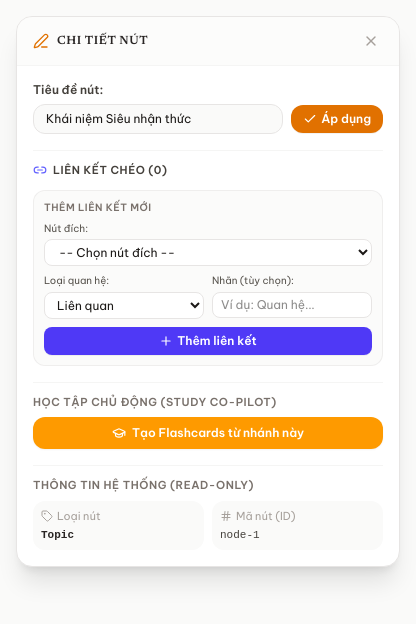
it: Commit 5: Prevent Duplicate Flashcard Creation › Scenario: Backend lỗi không được báo thành công › displays error message and retains retry capability when backend fails with 500
// When người dùng bấm tạo flashcard và backend trả 500
Click the button with test id "btn-create-flashcard-from-branch": point(208, 433) [33,417,383,449]
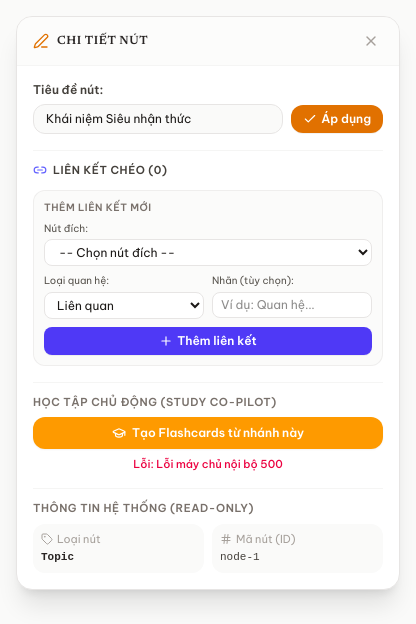
Check: the text with test id "flashcard-export-feedback" reads "Lỗi: Lỗi máy chủ nội bộ 500", box [133,457,283,471]
// When người dùng thử lại
Click the button with test id "btn-create-flashcard-from-branch": point(208, 433) [33,417,383,449]
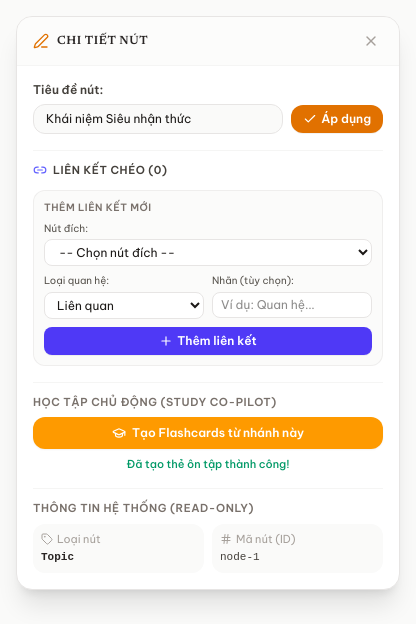
Check: the text with test id "flashcard-export-feedback" reads "Đã tạo thẻ ôn tập thành công!", box [126,457,289,471]
